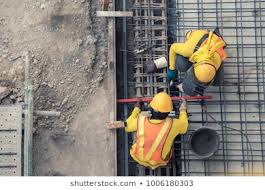helmet: (152, 90, 174, 114), (195, 65, 214, 84)
vest: (136, 121, 173, 167), (199, 30, 223, 63)
